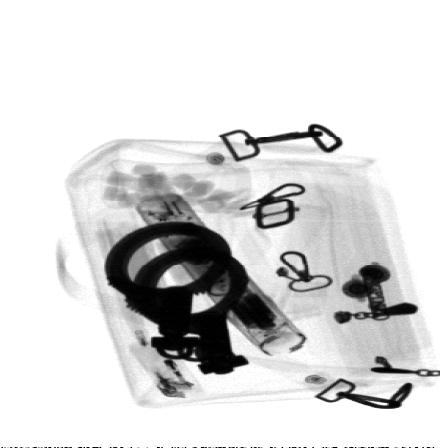Baton: (135, 192, 308, 357)
HandCuffs: (103, 220, 250, 377)
Lighter: (121, 333, 197, 398)
